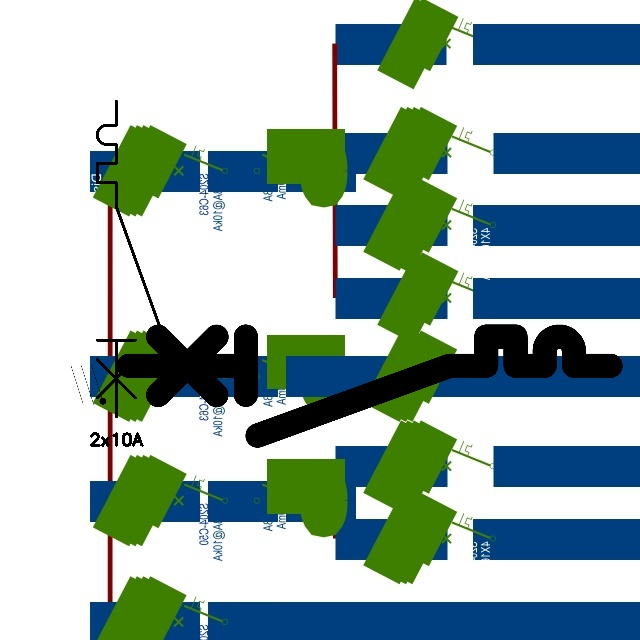interruptor_termomagnetico: (116, 324, 623, 448), (89, 93, 170, 425)
